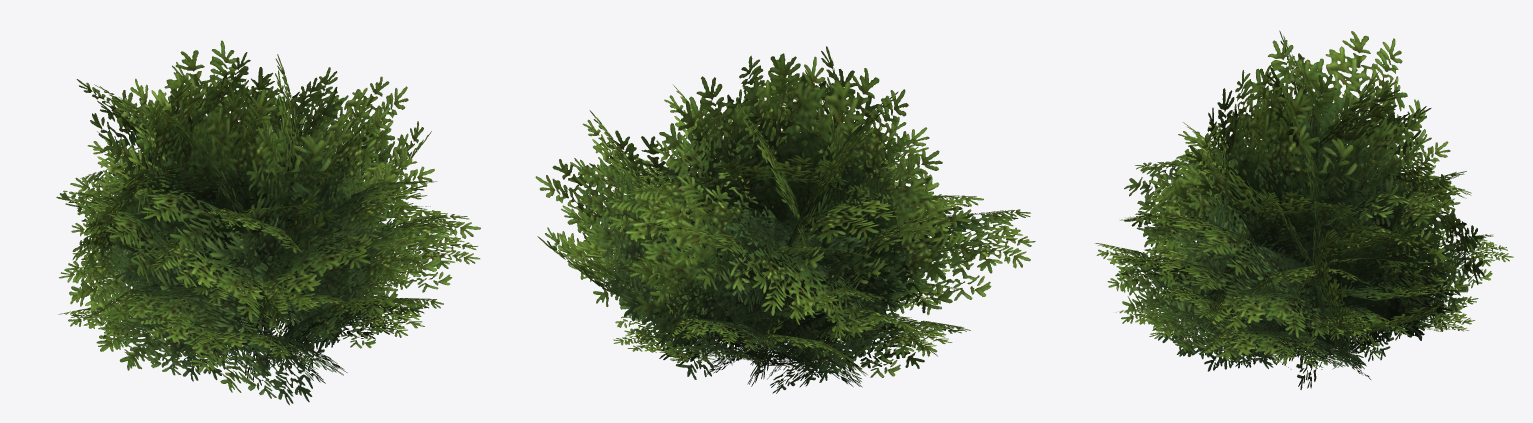
The model's file is wm_灌木大灌木04.fbx.
The picture shows the model from 3 angles, left to right: view 1: azimuth 30°, elevation 25°; view 2: azimuth 150°, elevation 25°; view 3: azimuth 270°, elevation 25°; orthographic projection. The views are drawn at different scales.
Visible parts, largest first — view 1: wm_灌木大灌木04; view 2: wm_灌木大灌木04; view 3: wm_灌木大灌木04.
Part boxes in pixels (x1,y1,x2,y2): wm_灌木大灌木04: [56, 40, 480, 405]; wm_灌木大灌木04: [535, 46, 1035, 393]; wm_灌木大灌木04: [1095, 30, 1513, 389].
Size of the model in its own units: 323 by 250 by 289.
